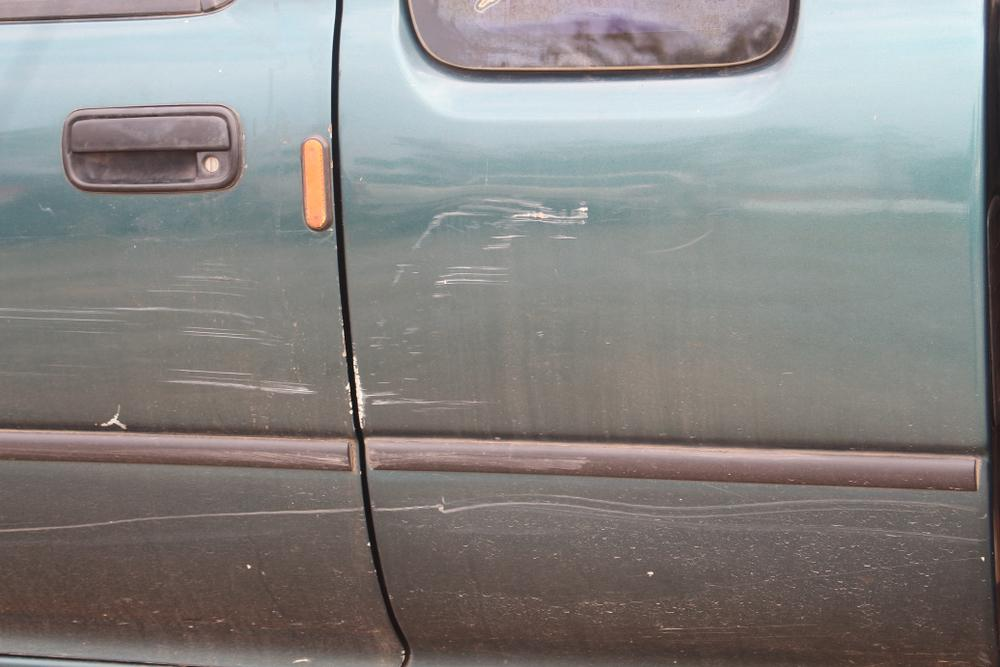scratch: (356, 192, 603, 433), (0, 255, 321, 400), (377, 492, 1000, 523), (0, 504, 365, 537)
